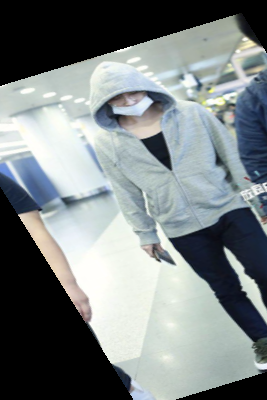mask_weared_incorrect: (81, 61, 178, 129)
